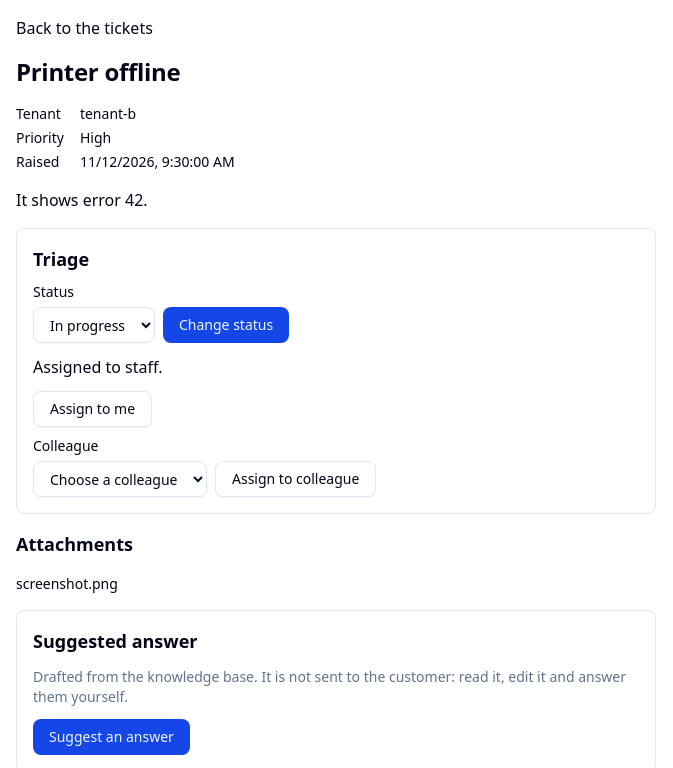
Test case: a source article opens beside the draft, so reading it keeps the edits
Step 1. Click the button "Suggest an answer" → (111, 737), box [33,719,190,755]
(page scrolled)
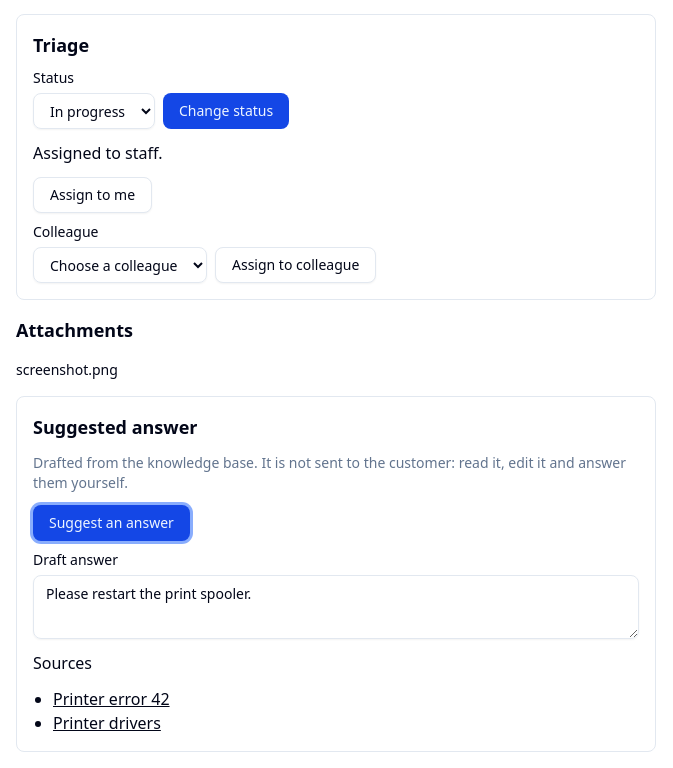
Result: the text box labelled "Draft answer" is shown at [33,575,639,639]
